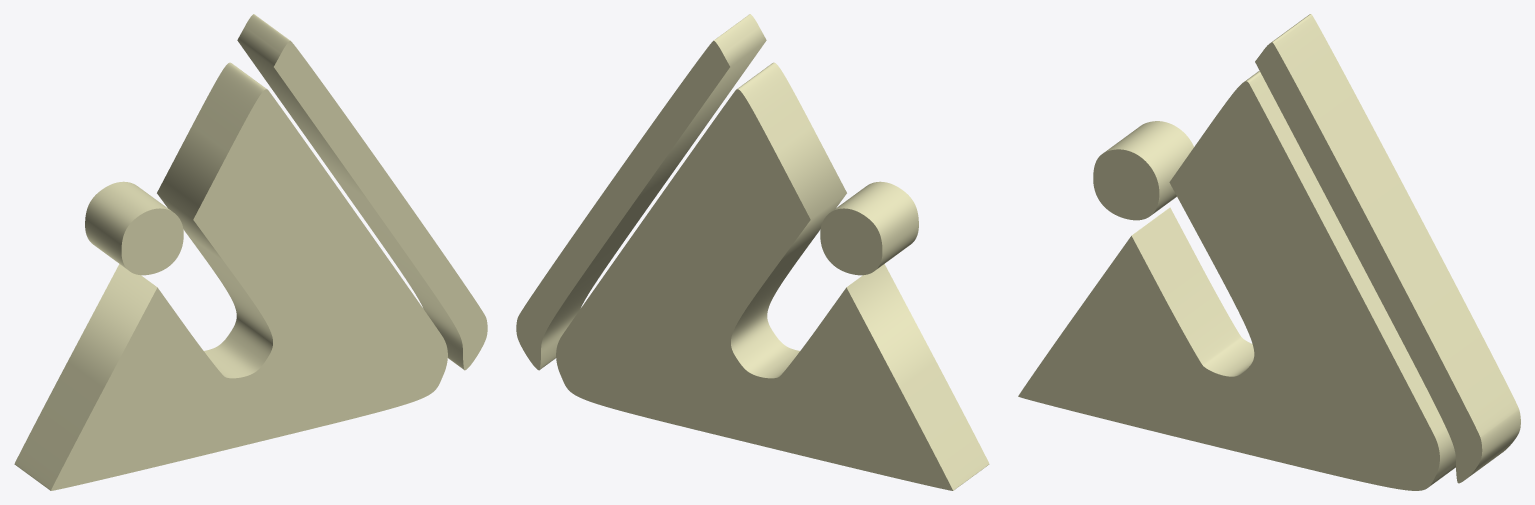
File: unicon.glb
The picture shows the model from 3 angles, left to right: view 1: azimuth 30°, elevation 25°; view 2: azimuth 150°, elevation 25°; view 3: azimuth 330°, elevation 25°; orthographic projection. The views are drawn at different scales.
Visible parts, largest first — view 1: Curve.001; view 2: Curve.001; view 3: Curve.001.
Part boxes in pixels (x1=…): Curve.001: x1=14, y1=14, x2=487, y2=490; Curve.001: x1=516, y1=14, x2=989, y2=490; Curve.001: x1=1018, y1=14, x2=1520, y2=490.
Size of the model in its own units: 7.23 by 6.22 by 1.04.
